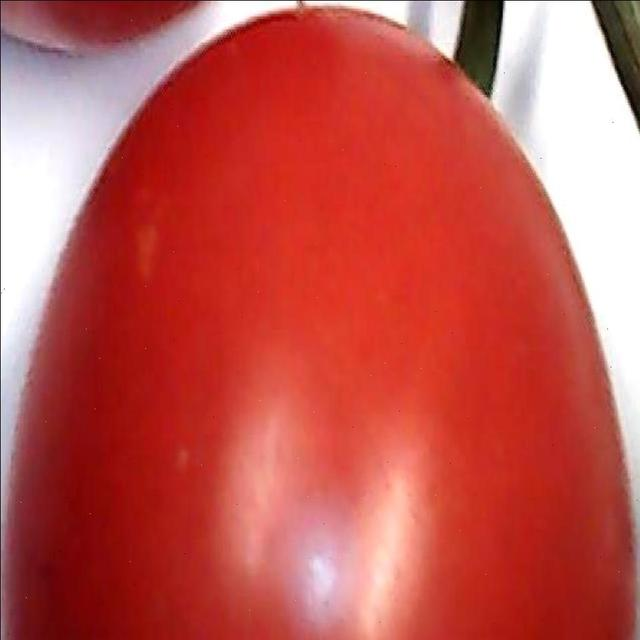Healthy Fruit: (0, 3, 427, 427)
